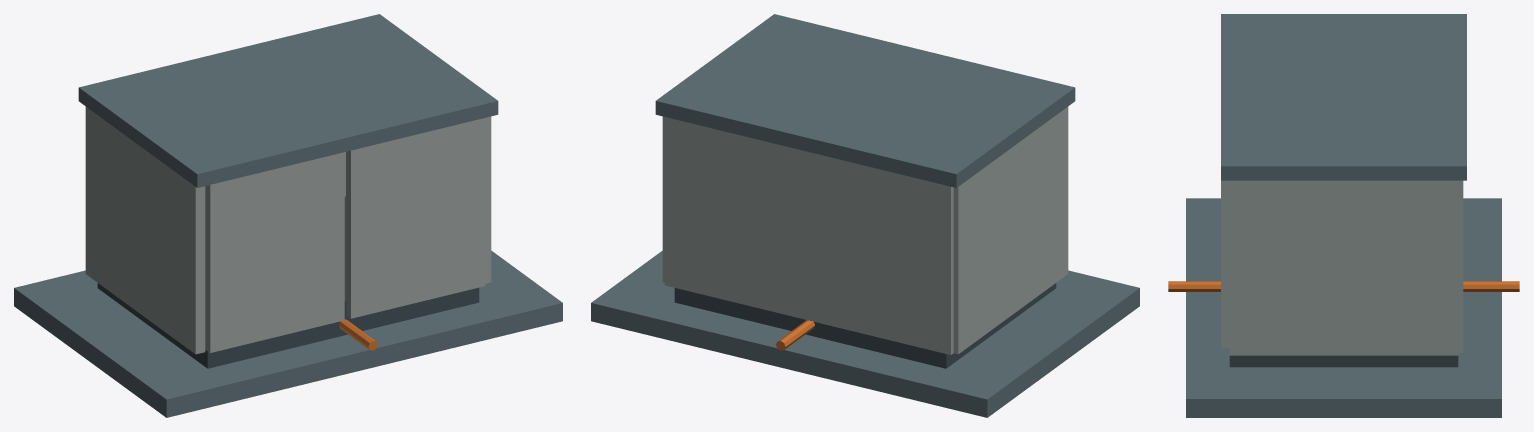
Rendered from solar_power_station_d1.glb.
3 views of the same model, side by side, from view 1: azimuth 30°, elevation 25°; view 2: azimuth 150°, elevation 25°; view 3: azimuth 270°, elevation 25° (orthographic). The views are drawn at different scales.
Visible parts, largest first — view 1: SOLAR_GAME_MESH; view 2: SOLAR_GAME_MESH; view 3: SOLAR_GAME_MESH.
Boxes of the visible parts, box(x1,y1,x2,y2) form: SOLAR_GAME_MESH: box(14, 14, 562, 417); SOLAR_GAME_MESH: box(591, 14, 1139, 417); SOLAR_GAME_MESH: box(1168, 14, 1519, 417).
Bounding box in the file's own units: 5.4 × 2.86 × 4.
